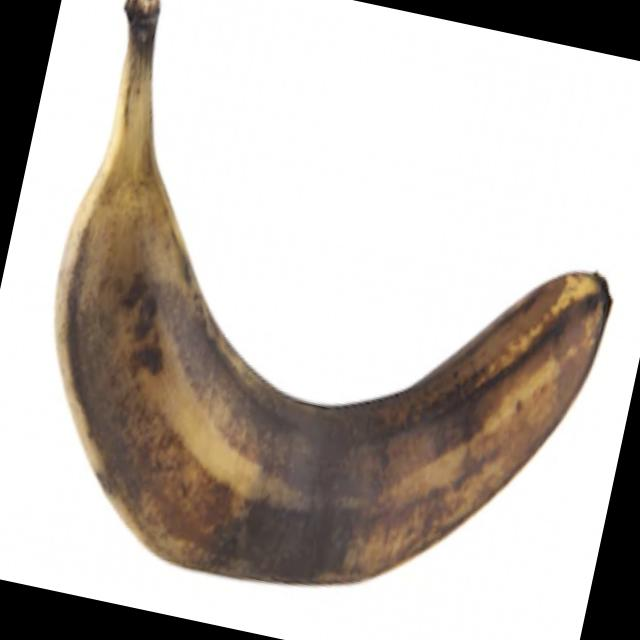rotten-banana: (7, 79, 639, 638)
